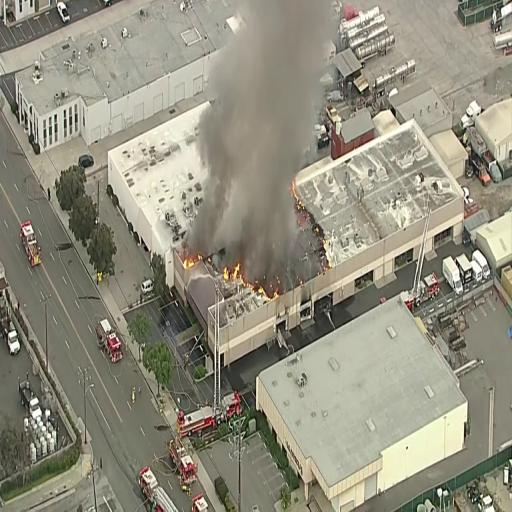smoke: (224, 9, 300, 223)
